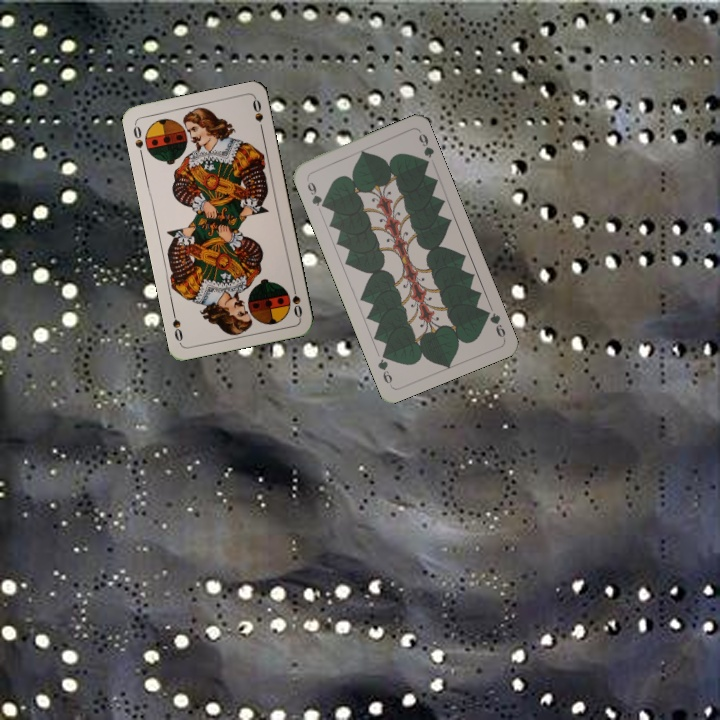G9: (480, 305, 508, 341), (302, 174, 328, 211)
SO: (288, 280, 305, 320), (129, 120, 146, 160)
